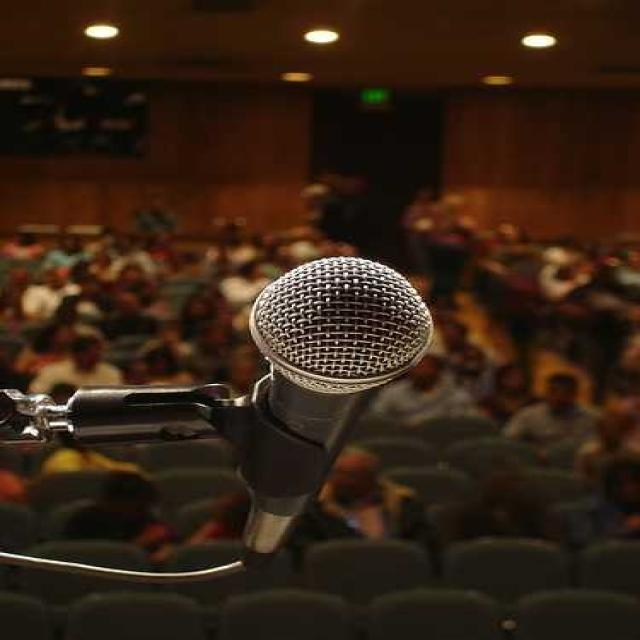microphone: (233, 243, 441, 538)
